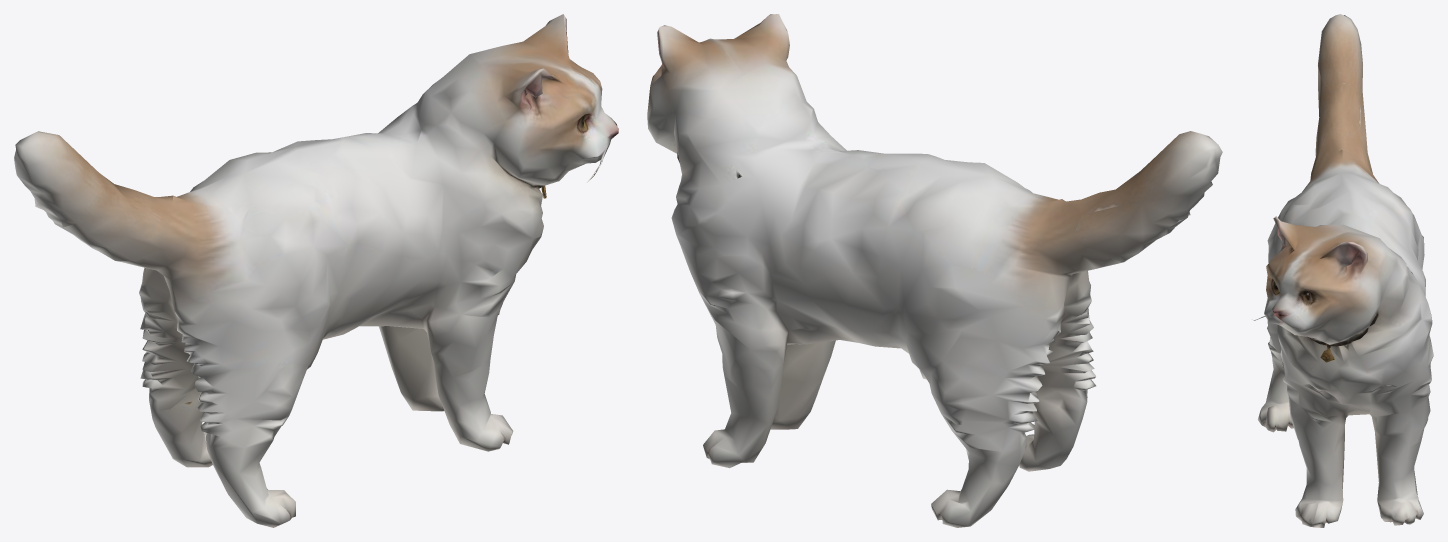
The model's file is HOICHAN-lo.glb.
3 views of the same model, side by side, from view 1: azimuth 30°, elevation 25°; view 2: azimuth 150°, elevation 25°; view 3: azimuth 270°, elevation 25° (orthographic). The views are drawn at different scales.
Visible parts, largest first — view 1: tripo_node_2c0fd27b-0e29-44b0-a9b8-1f40acd287ec; view 2: tripo_node_2c0fd27b-0e29-44b0-a9b8-1f40acd287ec; view 3: tripo_node_2c0fd27b-0e29-44b0-a9b8-1f40acd287ec.
Part boxes in pixels (x1,y1,x2,y2): tripo_node_2c0fd27b-0e29-44b0-a9b8-1f40acd287ec: [14, 14, 618, 527]; tripo_node_2c0fd27b-0e29-44b0-a9b8-1f40acd287ec: [647, 14, 1222, 527]; tripo_node_2c0fd27b-0e29-44b0-a9b8-1f40acd287ec: [1252, 14, 1433, 527].
Bounding box in the file's own units: 1.47 × 1 × 0.4953.
1 material, 1 textured.
